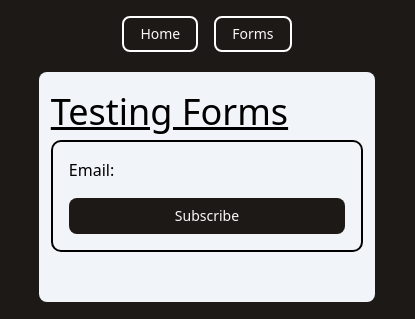
form test › test the sub button
Expected: the heading "Testing Forms" is shown, [51,87,288,136]
Expected: the text "submitted email: test@test.com" is not shown
alias: emailInput
Type "test@test.com" into the field with test id "email-input".
click(230, 170); type("test@test.com")  # box [114,158,345,182]
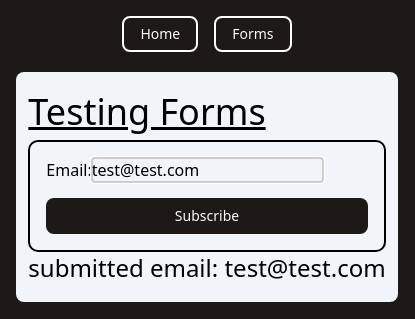
Click the button with test id "subscribe-btn".
click(207, 216)  # box [46,198,367,234]
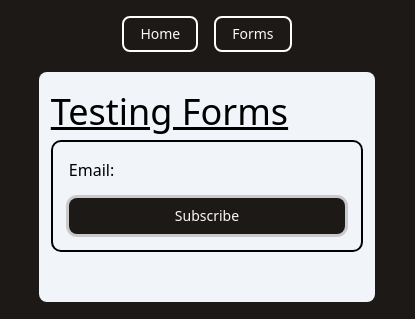
Now the text "submitted email: test@test.com" is gone
